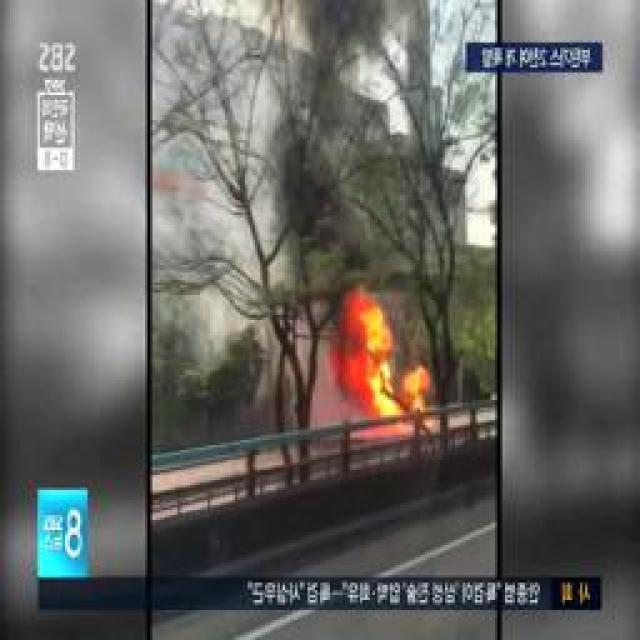Fire: (340, 313, 405, 425), (413, 366, 429, 433)
